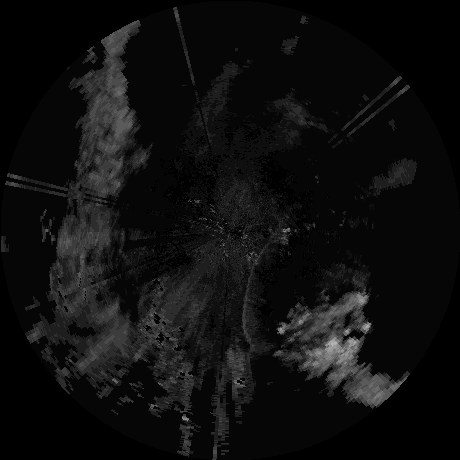frontgust: (241, 242, 277, 345)
